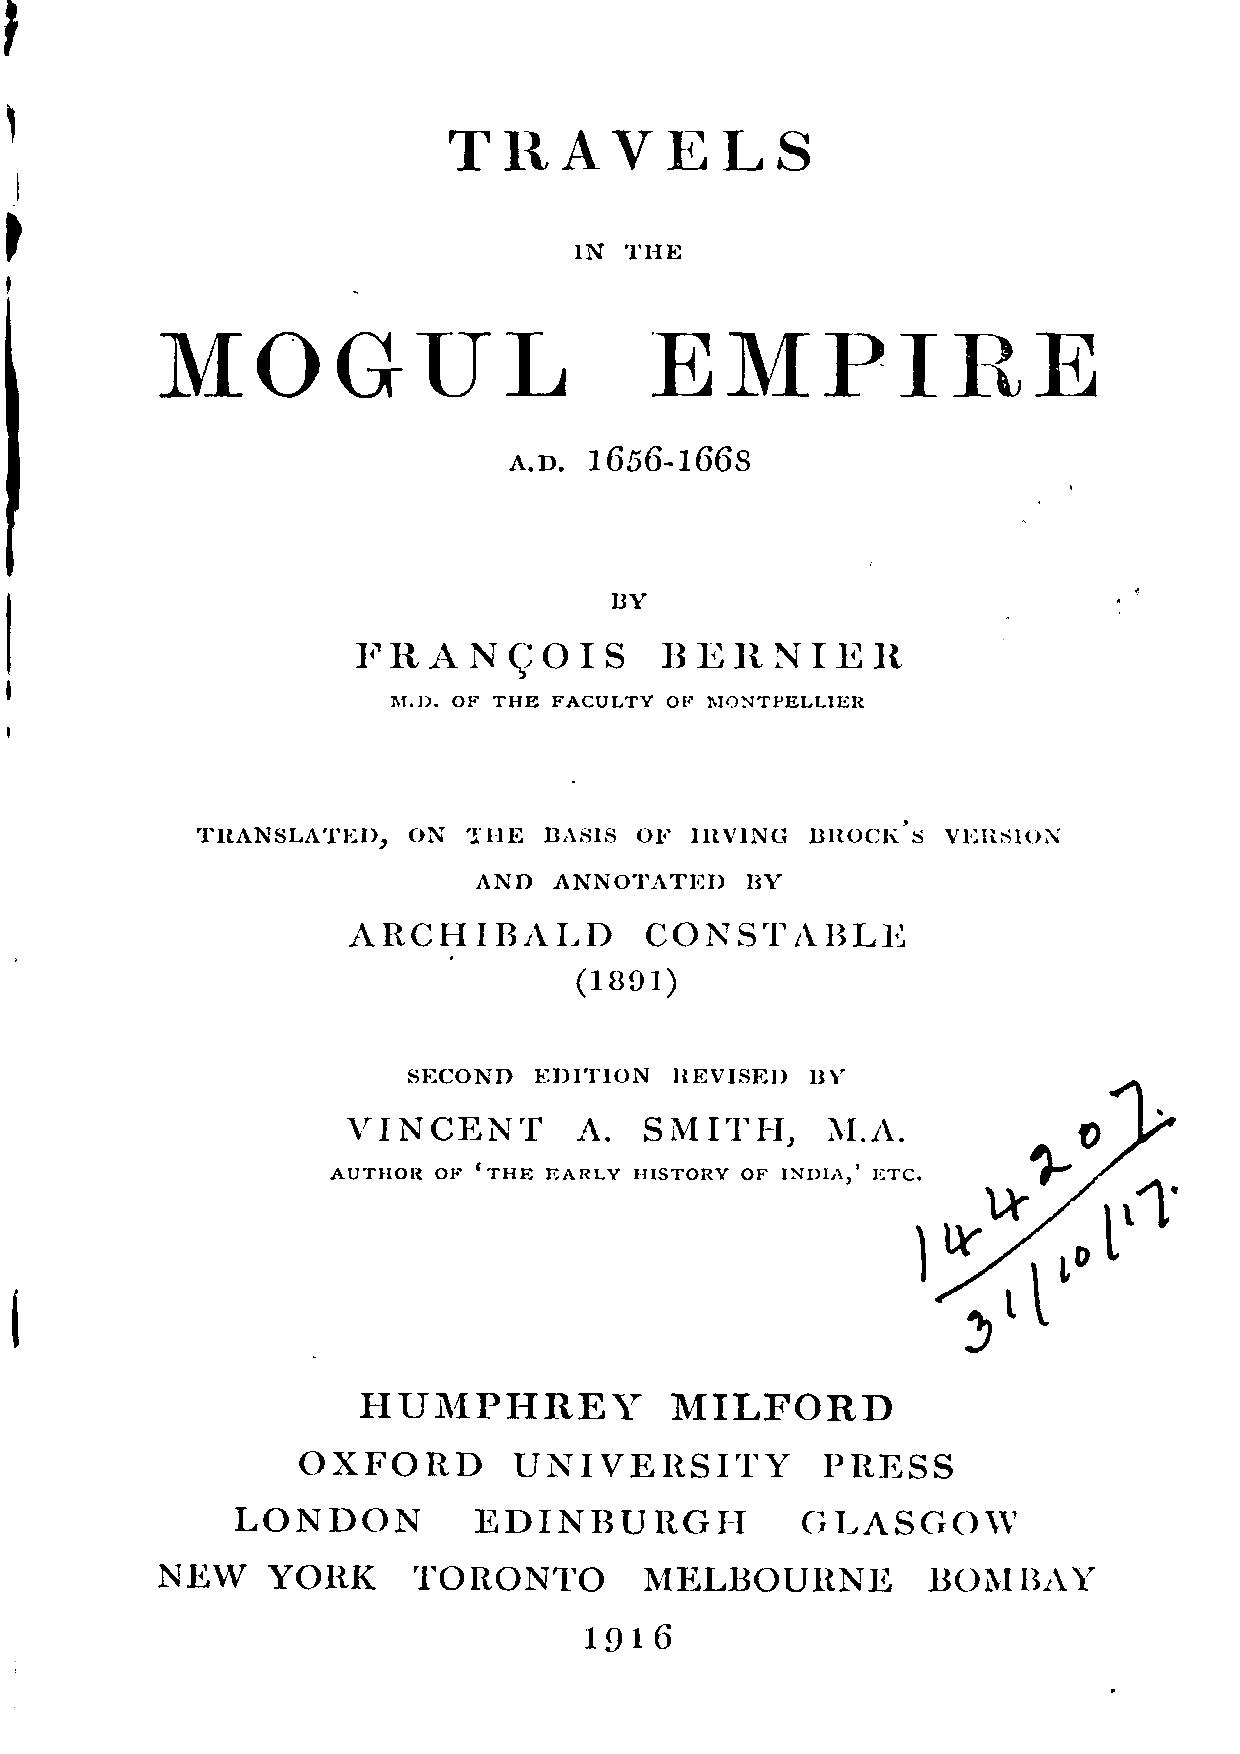author: (352, 586, 900, 674)
title: (152, 126, 1098, 407)
